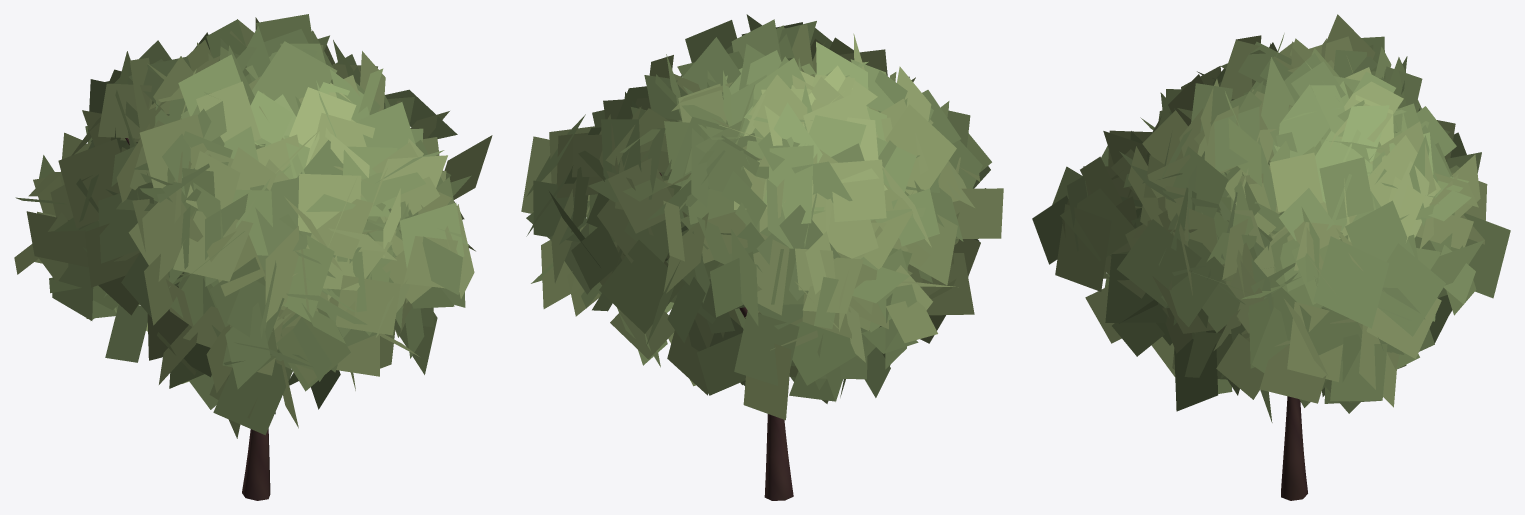
The model's file is cherry_0.glb.
3 views of the same model, side by side, from view 1: azimuth 30°, elevation 25°; view 2: azimuth 150°, elevation 25°; view 3: azimuth 270°, elevation 25° (orthographic). The views are drawn at different scales.
Parts seen in each view (by area): view 1: cherry_0; view 2: cherry_0; view 3: cherry_0.
Boxes of the visible parts, x1,y1,x2,y2 form: cherry_0: (14,14,492,500); cherry_0: (521,14,1003,500); cherry_0: (1032,14,1510,500).
Bounding box in the file's own units: 1 × 1 × 0.9719.
